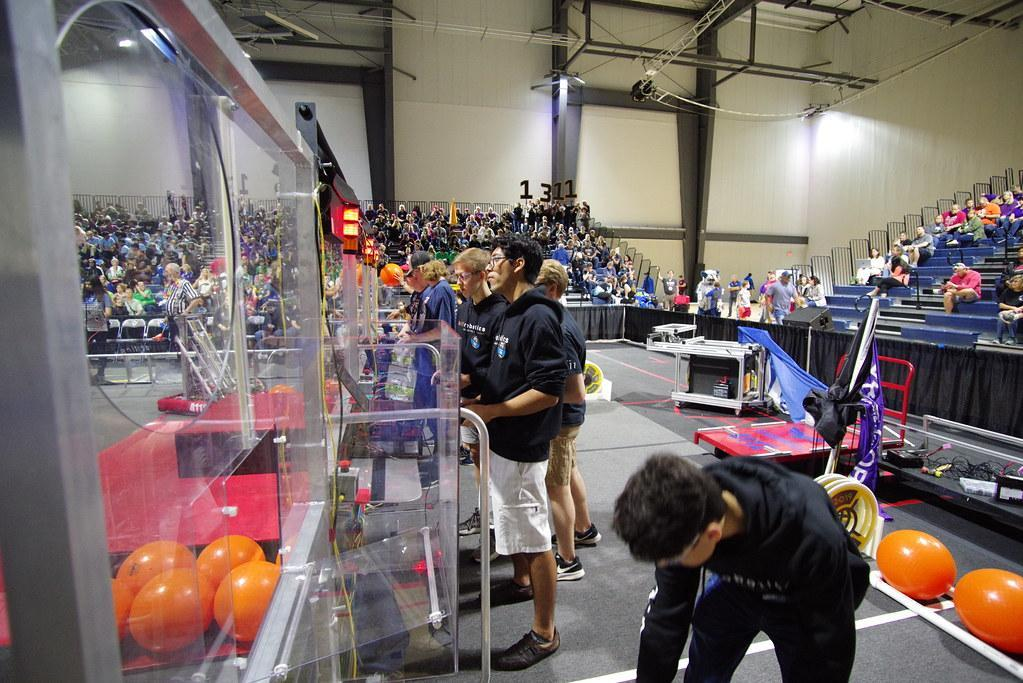robot: (153, 304, 244, 422)
